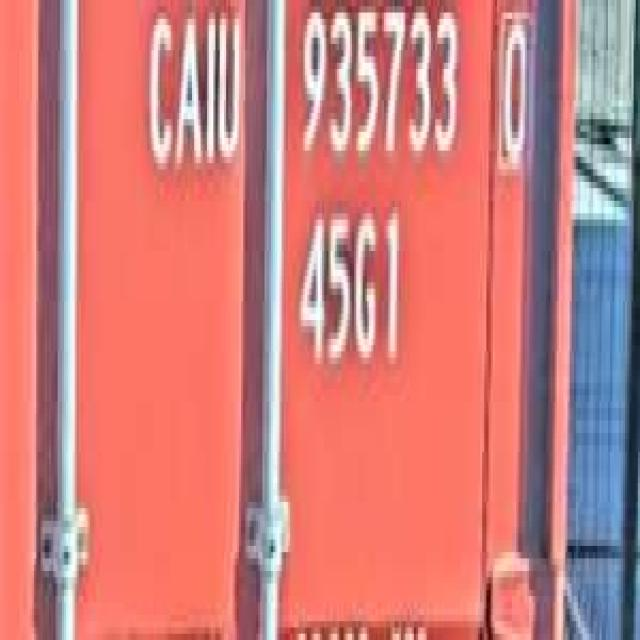dv: (493, 0, 535, 176)
owner: (141, 0, 243, 188)
serial: (294, 0, 463, 182)
size: (292, 195, 406, 382)
